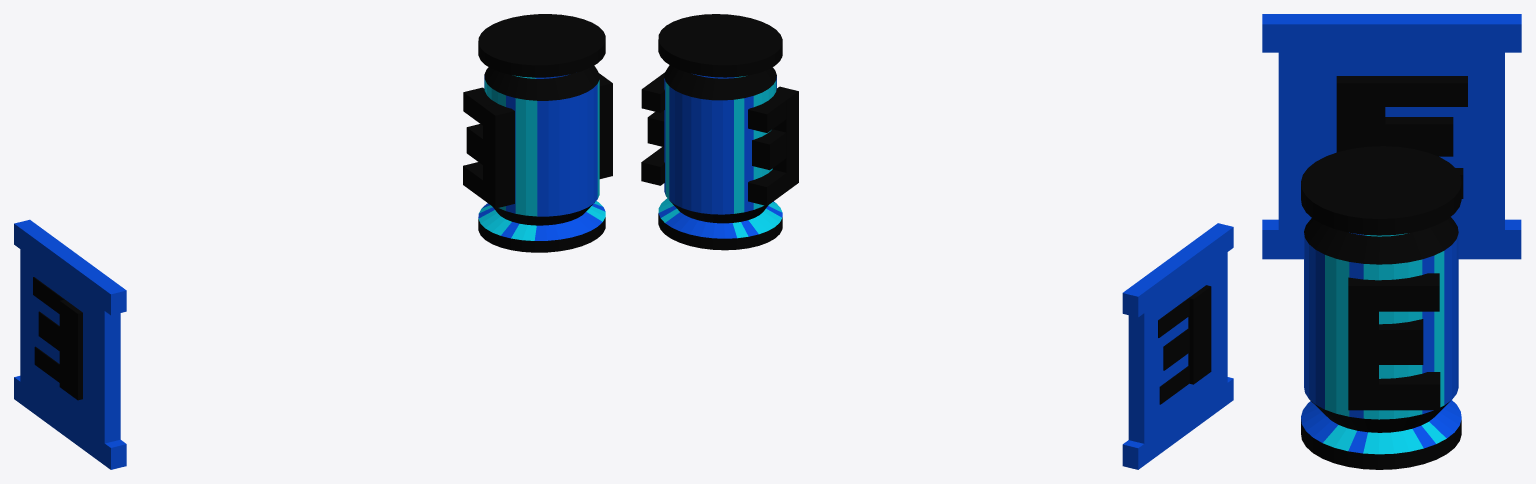
The model's file is etankmm.fbx.
3 views of the same model, side by side, from view 1: azimuth 30°, elevation 25°; view 2: azimuth 150°, elevation 25°; view 3: azimuth 270°, elevation 25° (orthographic). The views are drawn at different scales.
Parts seen in each view (by area): view 1: Cylinder.001, Cube, Cube.014, Cube.001, Cube.010, Cube.015; view 2: Cylinder.001, Cube, Cube.001, Cube.014, Cube.017, Cube.016, Cube.015, Cube.012, Cube.011, Cube.005, Cube.002; view 3: Cylinder.001, Cube, Cube.010, Cube.001, Cube.002, Cube.005, Cube.012, Cube.011, Cube.013.
Part boxes in pixels (box(x1,y1,x2,y2)): Cylinder.001: box(478, 14, 605, 252); Cube: box(14, 219, 126, 469); Cube.014: box(483, 103, 514, 208); Cube.001: box(59, 300, 82, 400); Cube.010: box(599, 75, 612, 178); Cube.015: box(463, 87, 496, 125); Cylinder.001: box(658, 14, 782, 250); Cube: box(1122, 223, 1233, 469); Cube.001: box(1188, 285, 1211, 384); Cube.014: box(772, 86, 798, 191); Cube.017: box(752, 129, 786, 170); Cube.016: box(748, 169, 786, 205); Cube.015: box(748, 97, 786, 132); Cube.012: box(641, 147, 664, 185); Cube.011: box(641, 73, 664, 112); Cube.005: box(1163, 328, 1189, 370); Cube.002: box(1158, 298, 1189, 337); Cylinder.001: box(1301, 146, 1461, 469); Cube: box(1262, 14, 1521, 259); Cube.010: box(1348, 277, 1378, 410); Cube.001: box(1336, 76, 1385, 152); Cube.002: box(1384, 76, 1467, 106); Cube.005: box(1385, 117, 1453, 156); Cube.012: box(1379, 372, 1440, 410); Cube.011: box(1378, 273, 1439, 311); Cube.013: box(1379, 319, 1423, 364).
Bounding box in the file's own units: 1306 × 652 × 406.
